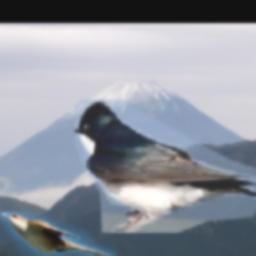Cuckoo: (1, 212, 118, 256)
Swallow: (74, 100, 256, 233)
